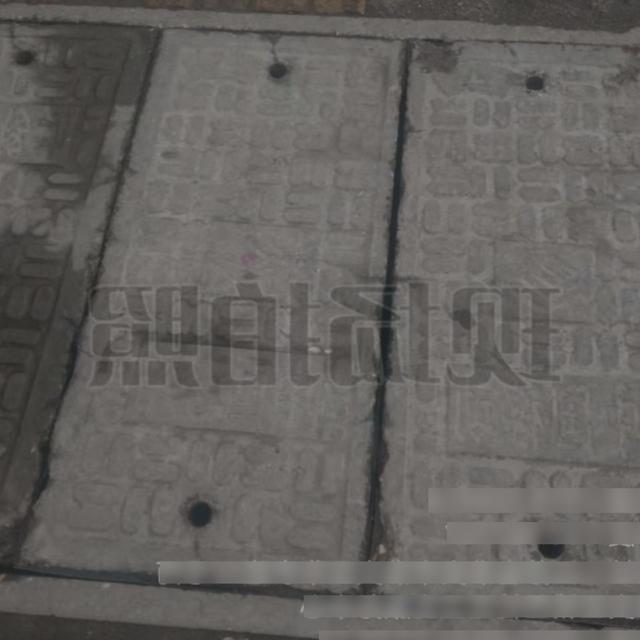good: (0, 3, 640, 608)
